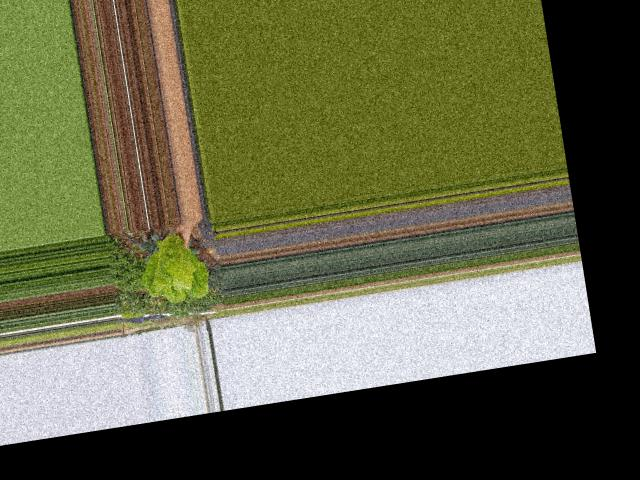lettuce: (133, 224, 215, 307)
